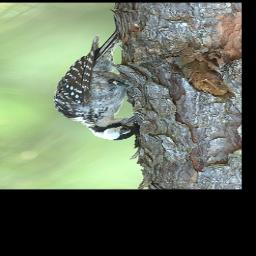Woodpecker: (51, 30, 139, 141)
